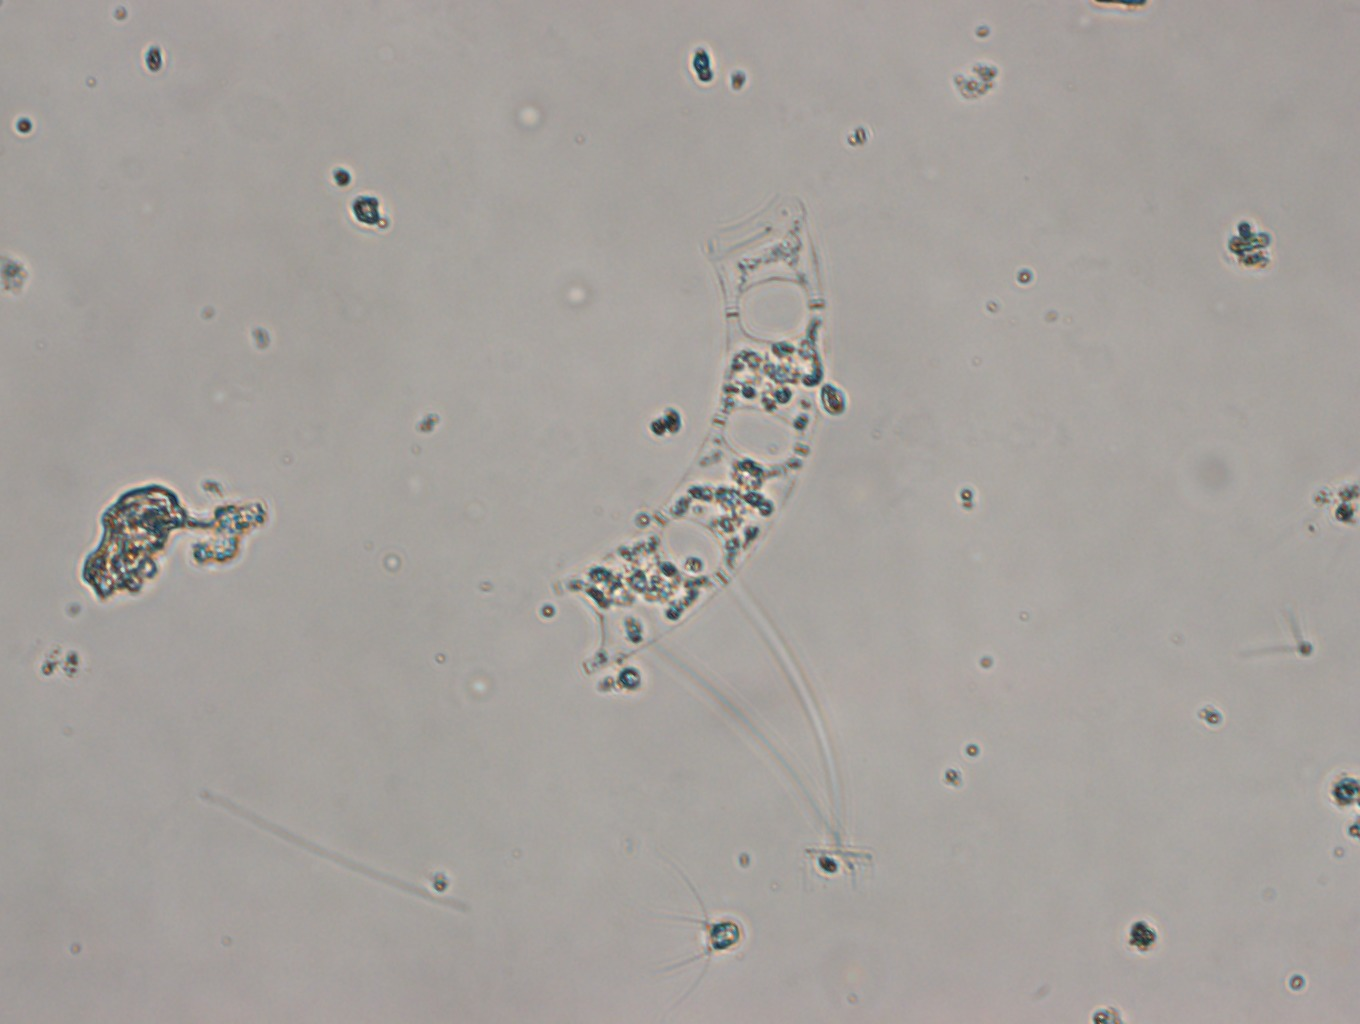eucampia: (575, 194, 831, 669)
